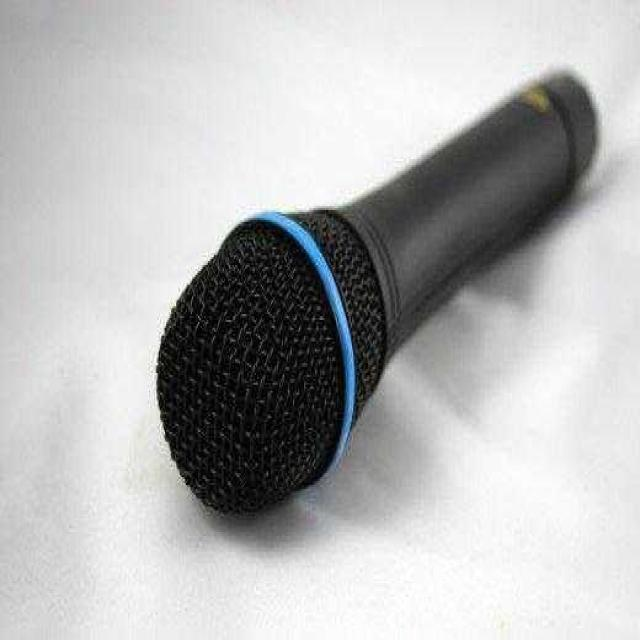microphone: (158, 65, 588, 515)
